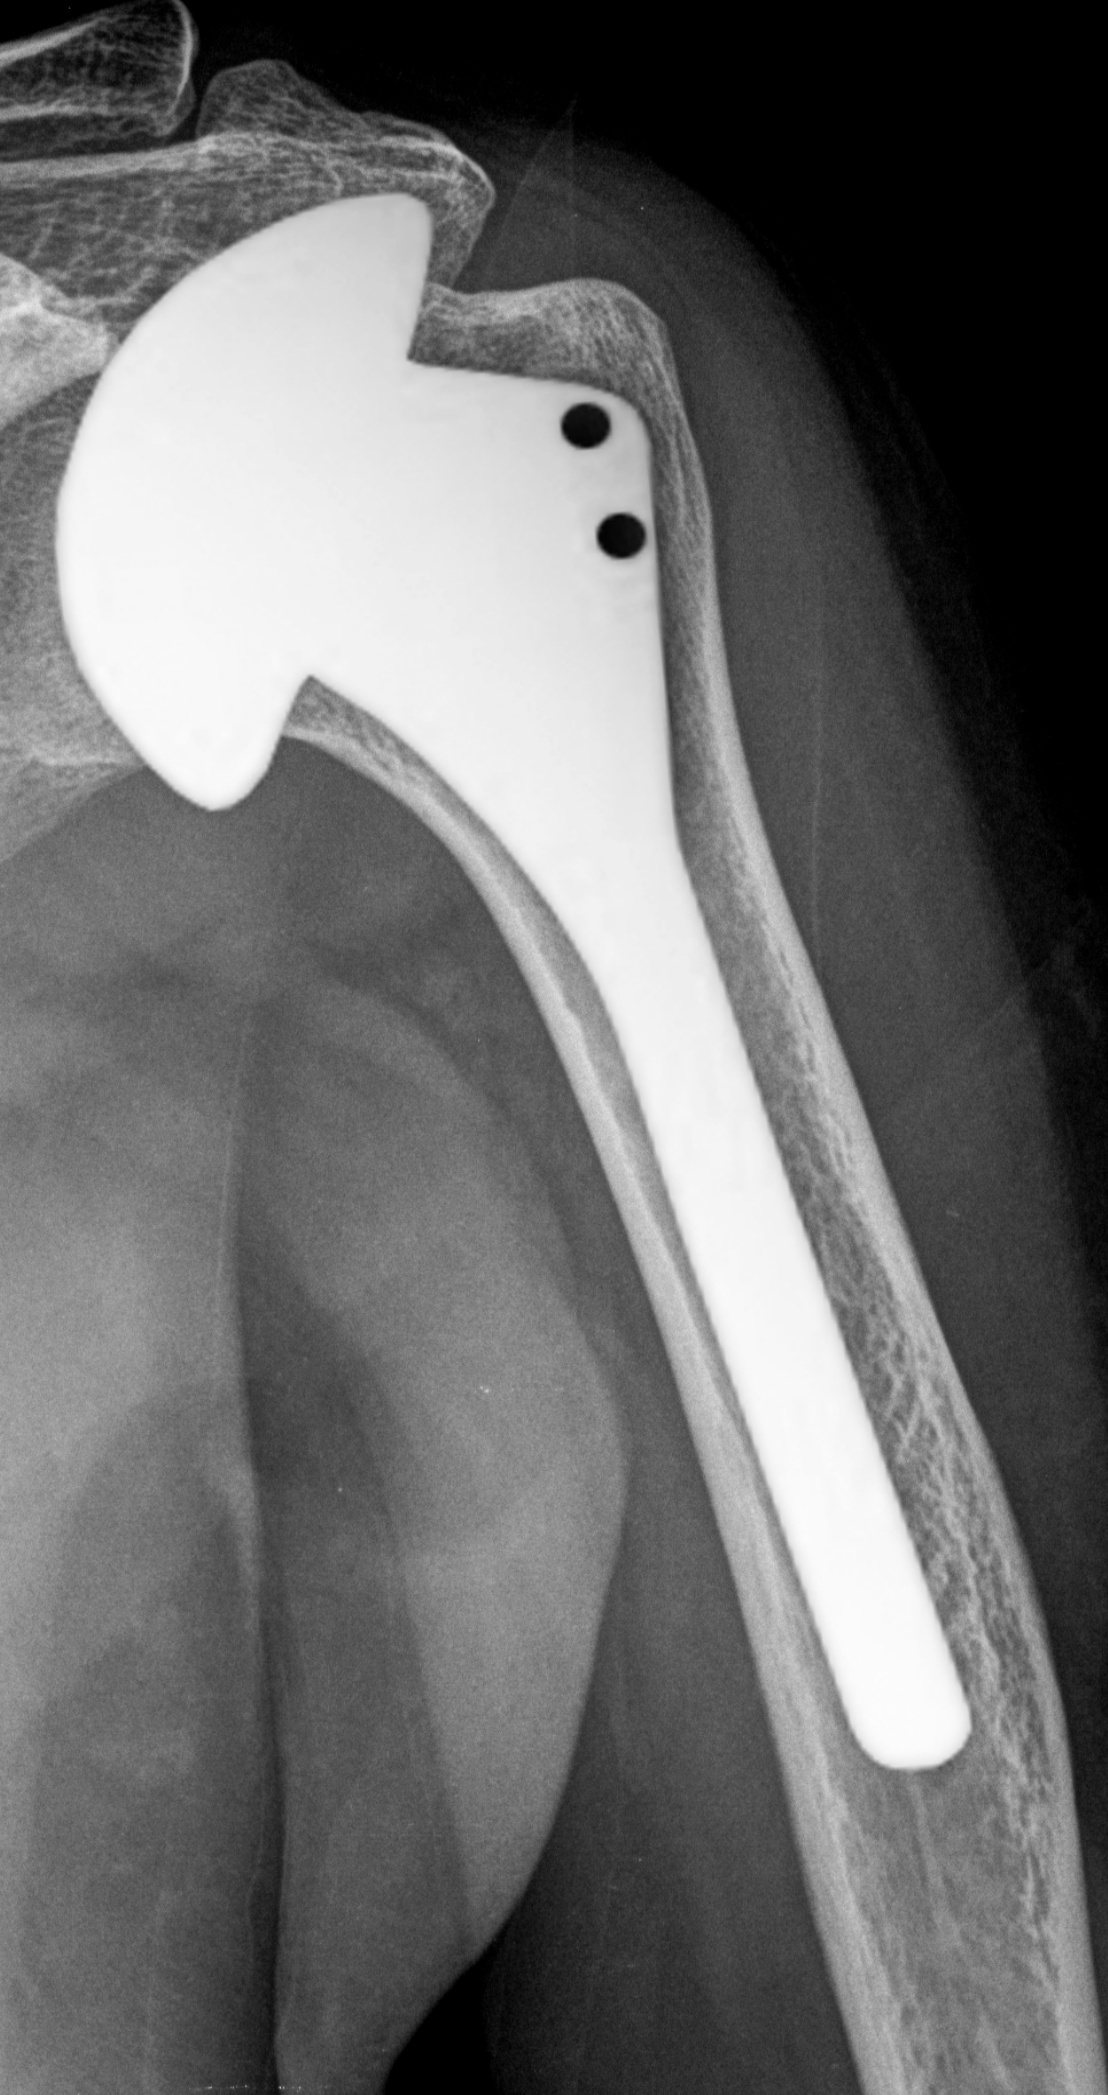Shoulder - Aequalis - Tornier: (44, 152, 681, 840)
